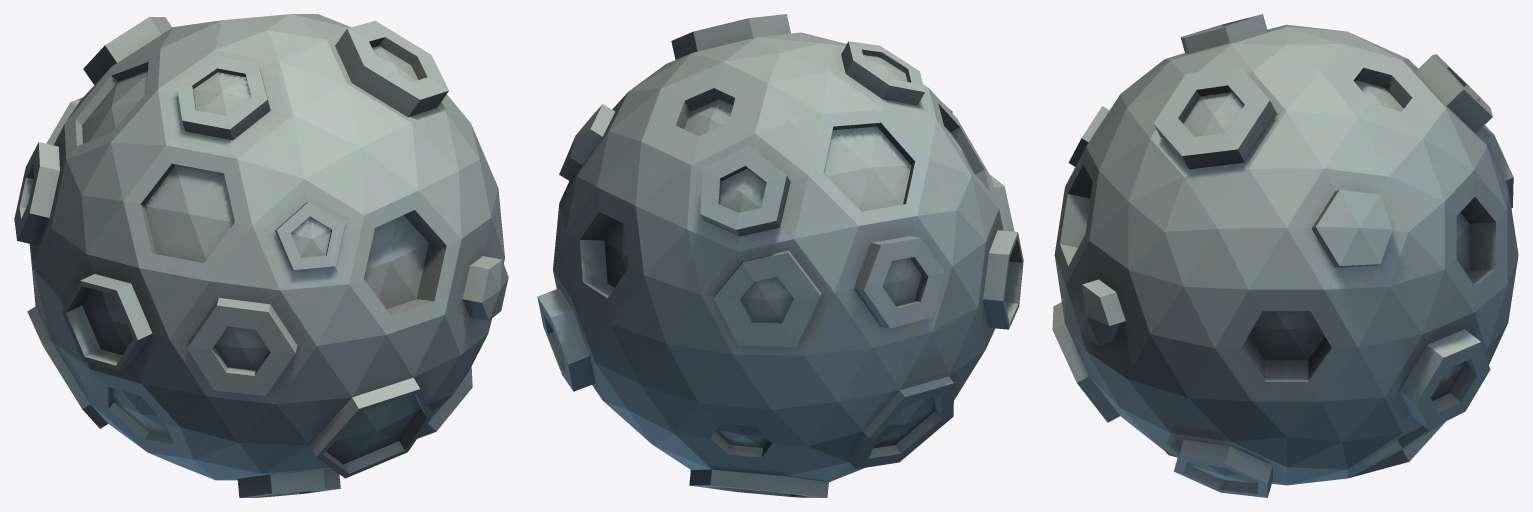
File: pp-moon.glb
The picture shows the model from 3 angles, left to right: view 1: azimuth 30°, elevation 25°; view 2: azimuth 150°, elevation 25°; view 3: azimuth 270°, elevation 25°; orthographic projection. The views are drawn at different scales.
Parts seen in each view (by area): view 1: moon; view 2: moon; view 3: moon.
Part boxes in pixels (x1=…): moon: x1=14, y1=14, x2=508, y2=497; moon: x1=537, y1=14, x2=1023, y2=497; moon: x1=1052, y1=14, x2=1518, y2=497.
Size of the model in its own units: 1.15 by 1.17 by 1.14.
1 material, 1 textured.
